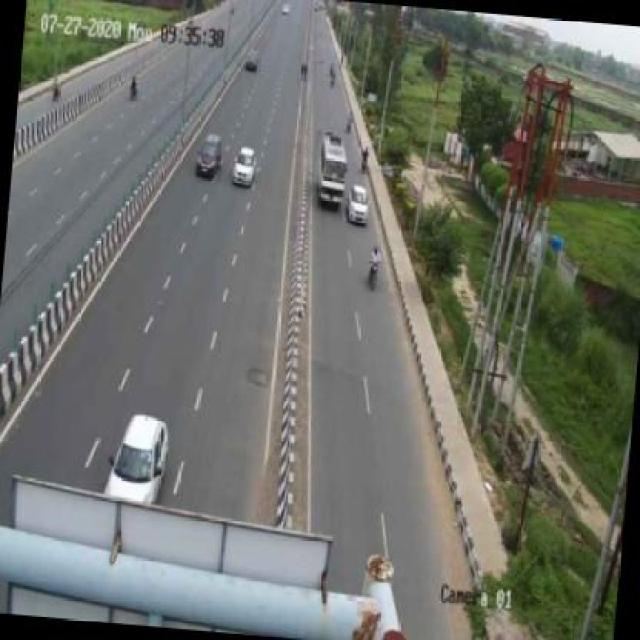car: (100, 405, 175, 506), (196, 134, 224, 181), (231, 145, 257, 189), (348, 183, 372, 229)
